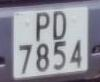4: (69, 36, 86, 74)
5: (52, 39, 70, 75)
7: (17, 40, 35, 79)
8: (34, 40, 53, 77)
D: (51, 9, 70, 44)
P: (34, 9, 53, 46)
